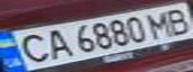0: (124, 14, 151, 43)
6: (69, 21, 97, 54)
8: (106, 16, 133, 47), (90, 19, 115, 51)
A: (39, 26, 72, 61)
B: (160, 4, 193, 36)
C: (6, 30, 54, 65)
M: (142, 9, 178, 38)
